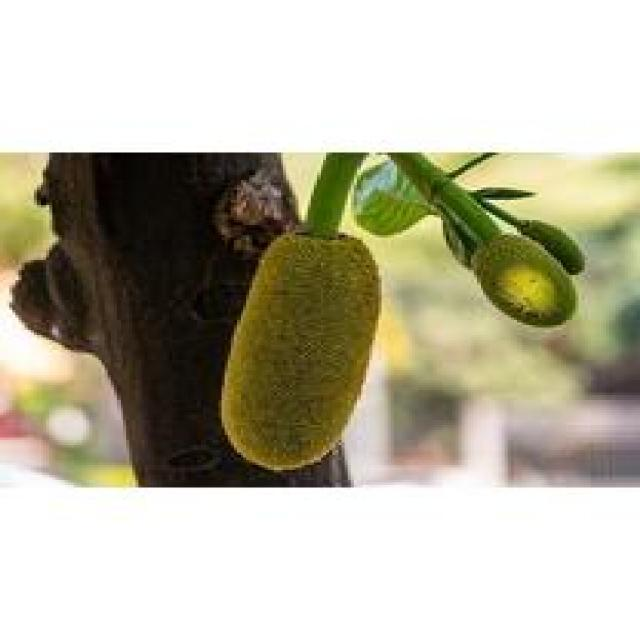fruit: (206, 197, 443, 455)
